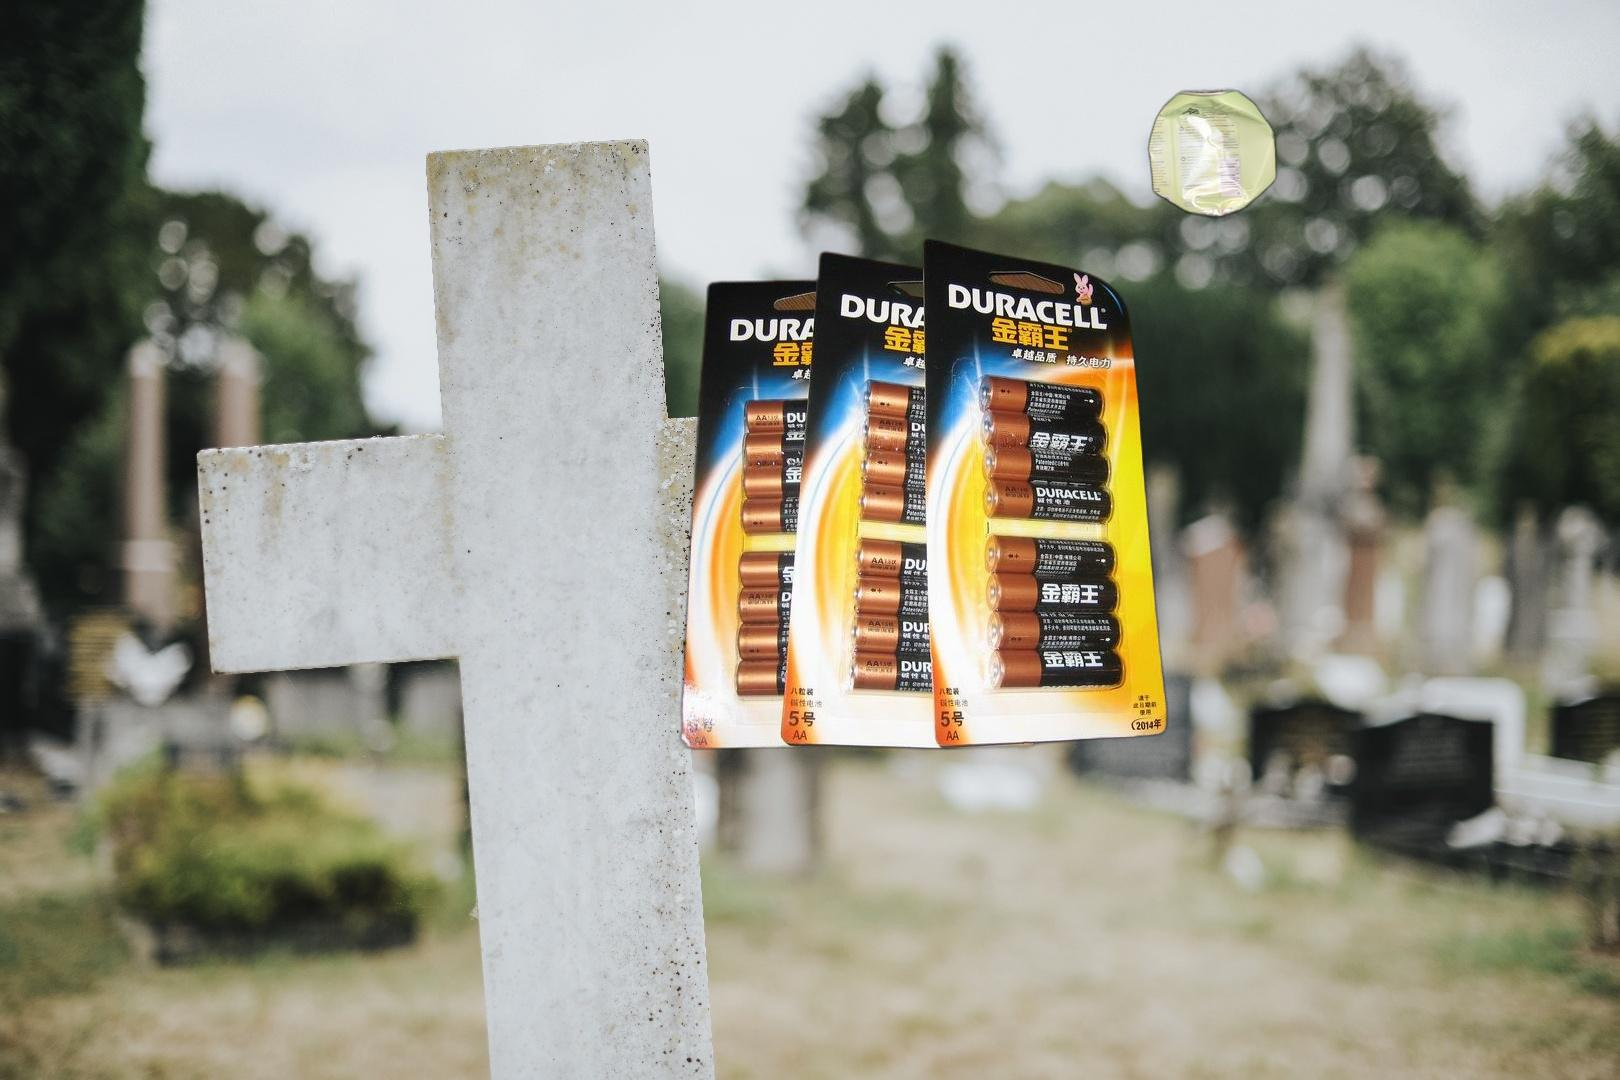battery: (673, 235, 1174, 755)
metal-cans: (1144, 84, 1281, 224)
